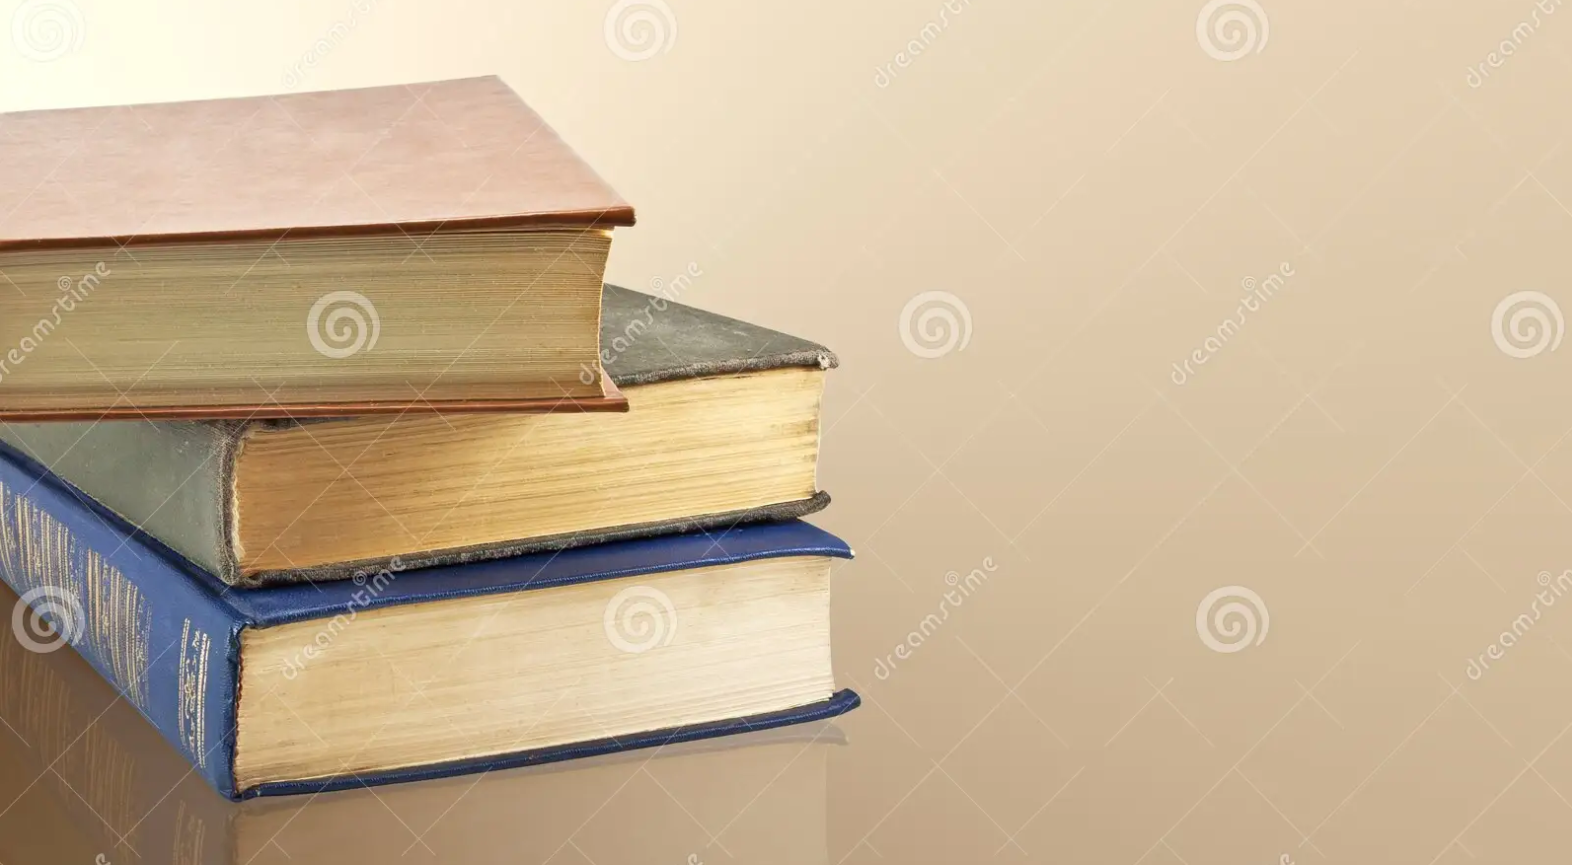book: (3, 72, 632, 413), (13, 340, 862, 580), (73, 580, 908, 796)
